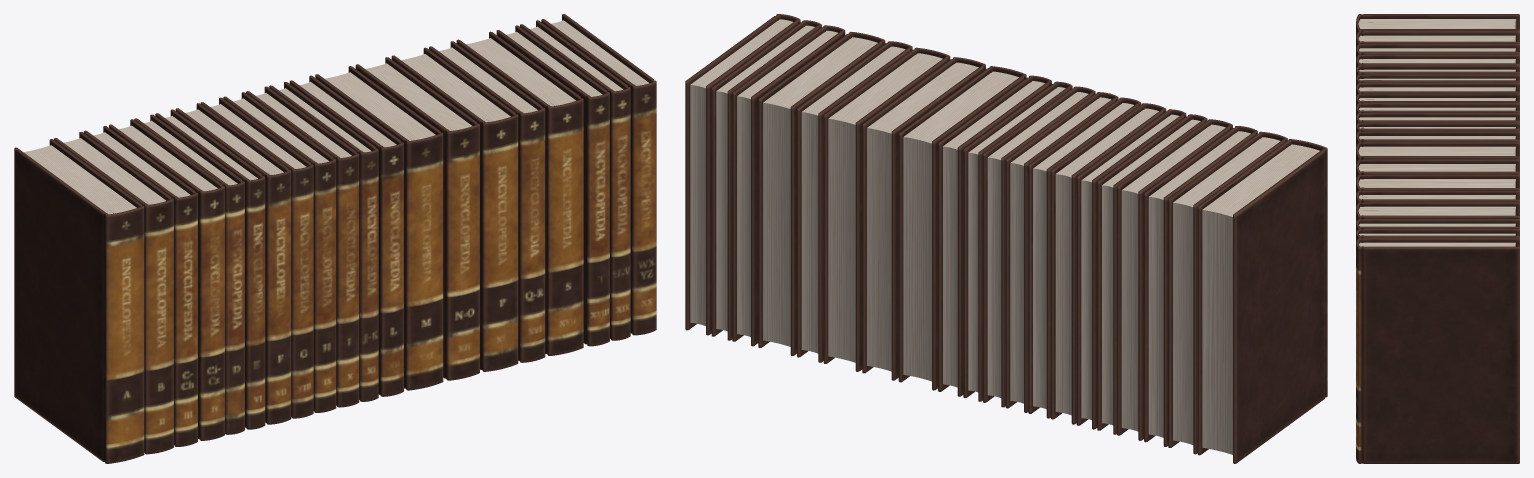
File: book_encyclopedia_set_01.glb
3 views of the same model, side by side, from view 1: azimuth 30°, elevation 25°; view 2: azimuth 150°, elevation 25°; view 3: azimuth 270°, elevation 25° (orthographic). The views are drawn at different scales.
Parts seen in each view (by area): view 1: book_encyclopedia_set_01_book01, book_encyclopedia_set_01_book13, book_encyclopedia_set_01_book15, book_encyclopedia_set_01_book17, book_encyclopedia_set_01_book14, book_encyclopedia_set_01_book02, book_encyclopedia_set_01_book16, book_encyclopedia_set_01_book04, book_encyclopedia_set_01_book18, book_encyclopedia_set_01_book20, book_encyclopedia_set_01_book07, book_encyclopedia_set_01_book12 (+8 smaller); view 2: book_encyclopedia_set_01_book01, book_encyclopedia_set_01_book13, book_encyclopedia_set_01_book15, book_encyclopedia_set_01_book17, book_encyclopedia_set_01_book14, book_encyclopedia_set_01_book02, book_encyclopedia_set_01_book04, book_encyclopedia_set_01_book16, book_encyclopedia_set_01_book18, book_encyclopedia_set_01_book20, book_encyclopedia_set_01_book07, book_encyclopedia_set_01_book12 (+8 smaller); view 3: book_encyclopedia_set_01_book20, book_encyclopedia_set_01_book13, book_encyclopedia_set_01_book01, book_encyclopedia_set_01_book17, book_encyclopedia_set_01_book15, book_encyclopedia_set_01_book14, book_encyclopedia_set_01_book02, book_encyclopedia_set_01_book16, book_encyclopedia_set_01_book03, book_encyclopedia_set_01_book12, book_encyclopedia_set_01_book07, book_encyclopedia_set_01_book04 (+8 smaller).
Boxes of the visible parts, x1,y1,x2,y2 form: book_encyclopedia_set_01_book01: (14,139,144,463); book_encyclopedia_set_01_book13: (315,66,443,390); book_encyclopedia_set_01_book15: (391,47,518,371); book_encyclopedia_set_01_book17: (456,31,583,355); book_encyclopedia_set_01_book14: (355,57,479,380); book_encyclopedia_set_01_book02: (54,132,173,454); book_encyclopedia_set_01_book16: (429,41,545,362); book_encyclopedia_set_01_book04: (109,119,224,440); book_encyclopedia_set_01_book18: (496,25,609,346); book_encyclopedia_set_01_book20: (541,14,656,335); book_encyclopedia_set_01_book07: (175,103,291,424); book_encyclopedia_set_01_book12: (289,75,403,396); book_encyclopedia_set_01_book01: (1197,139,1327,463); book_encyclopedia_set_01_book13: (898,66,1026,390); book_encyclopedia_set_01_book15: (823,47,950,371); book_encyclopedia_set_01_book17: (758,32,885,355); book_encyclopedia_set_01_book14: (862,57,985,380); book_encyclopedia_set_01_book02: (1168,131,1287,454); book_encyclopedia_set_01_book04: (1117,119,1232,440); book_encyclopedia_set_01_book16: (797,41,912,362); book_encyclopedia_set_01_book18: (732,25,845,346); book_encyclopedia_set_01_book20: (685,14,800,335); book_encyclopedia_set_01_book07: (1051,103,1166,424); book_encyclopedia_set_01_book12: (938,75,1051,396); book_encyclopedia_set_01_book20: (1356,238,1519,463); book_encyclopedia_set_01_book13: (1356,142,1519,164); book_encyclopedia_set_01_book01: (1356,14,1519,35); book_encyclopedia_set_01_book17: (1356,202,1519,222); book_encyclopedia_set_01_book15: (1356,174,1519,194); book_encyclopedia_set_01_book14: (1356,159,1519,180); book_encyclopedia_set_01_book02: (1356,30,1519,47); book_encyclopedia_set_01_book16: (1356,190,1519,208); book_encyclopedia_set_01_book03: (1356,43,1519,58); book_encyclopedia_set_01_book12: (1356,131,1519,148); book_encyclopedia_set_01_book07: (1356,82,1519,96); book_encyclopedia_set_01_book04: (1356,54,1519,68).
Bounding box in the file's own units: 0.5513 × 0.2374 × 0.1631.
2 materials, 2 textured.
